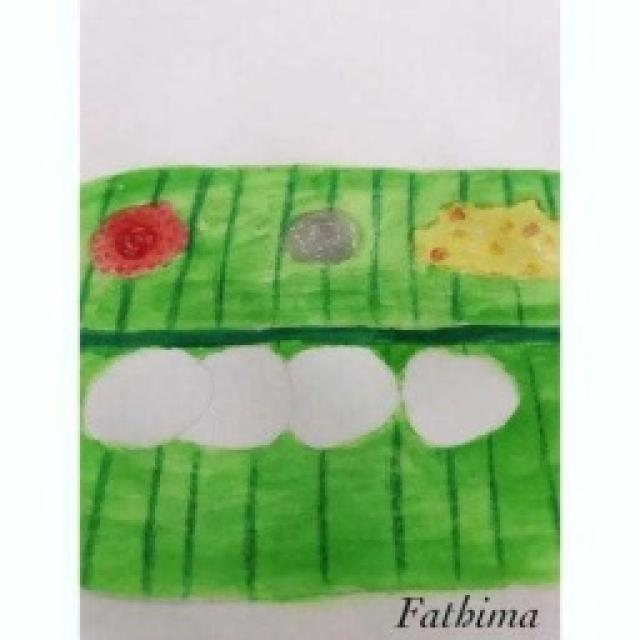idli: (78, 328, 494, 461)
